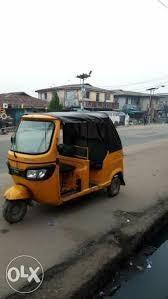keke: (3, 110, 128, 228)
